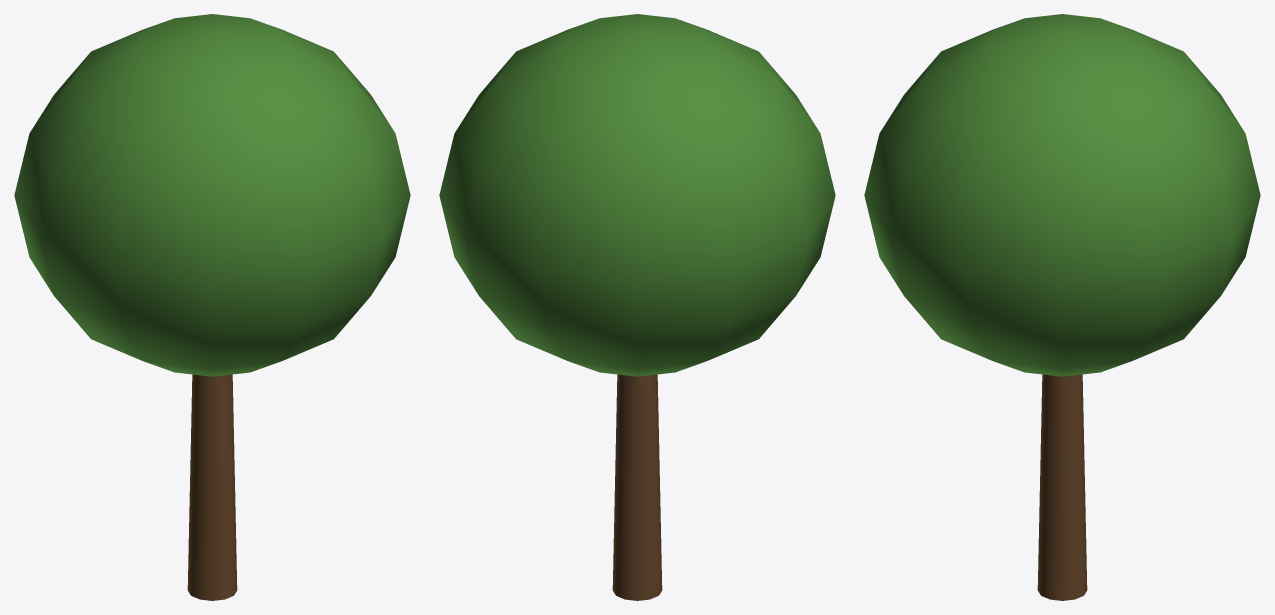
File: tree.glb
3 views of the same model, side by side, from view 1: azimuth 30°, elevation 25°; view 2: azimuth 150°, elevation 25°; view 3: azimuth 270°, elevation 25° (orthographic).
Bounding box in the file's own units: 4 × 6.2 × 4.
